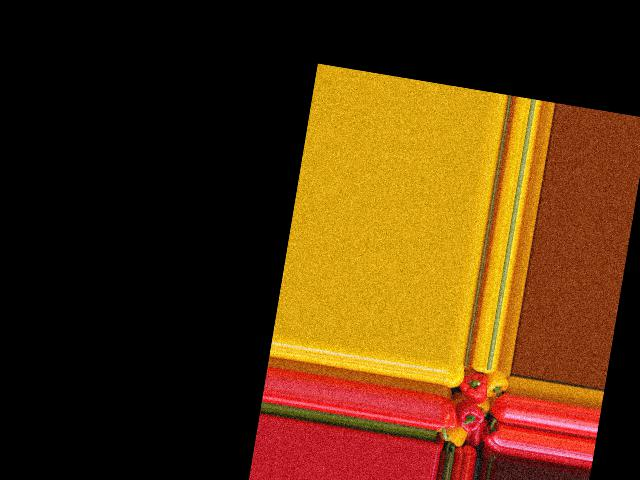bell_pepper: (482, 368, 508, 396)
